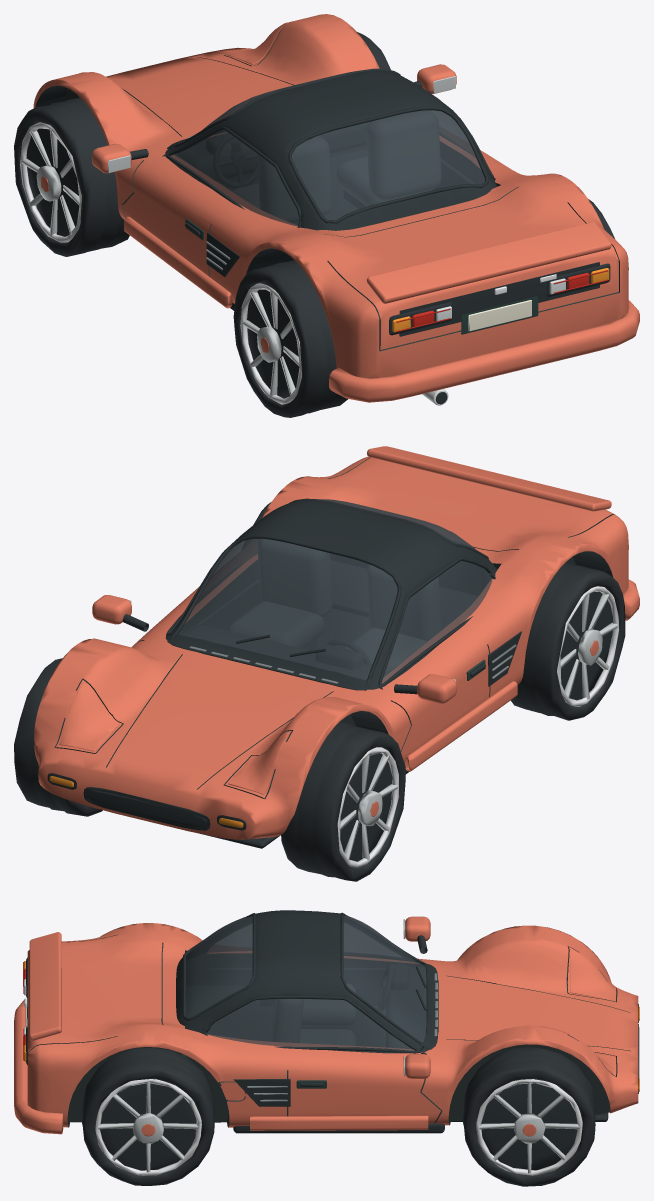
Rendered from shiro_lod2.fbx.
3 renders of one model, top to bottom at view 1: azimuth 30°, elevation 25°; view 2: azimuth 150°, elevation 25°; view 3: azimuth 270°, elevation 25°, orthographic. The views are drawn at different scales.
Parts seen in each view (by area): view 1: Body, Wheel_FL_Mesh, Wheel_RL_Mesh; view 2: Body, Wheel_FL_Mesh, Wheel_RL_Mesh, Wheel_FR_Mesh; view 3: Body, Wheel_FR_Mesh, Wheel_RR_Mesh.
Part boxes in pixels (left/top/right/bottom): Body: left=33, top=14, right=639, bottom=405; Wheel_FL_Mesh: left=14, top=97, right=129, bottom=256; Wheel_RL_Mesh: left=233, top=260, right=347, bottom=417; Body: left=34, top=446, right=639, bottom=848; Wheel_FL_Mesh: left=281, top=722, right=405, bottom=881; Wheel_RL_Mesh: left=511, top=562, right=625, bottom=720; Wheel_FR_Mesh: left=14, top=658, right=102, bottom=816; Body: left=14, top=910, right=639, bottom=1134; Wheel_FR_Mesh: left=463, top=1047, right=595, bottom=1186; Wheel_RR_Mesh: left=82, top=1047, right=214, bottom=1185.
Size of the model in its own units: 235 by 136 by 414.
